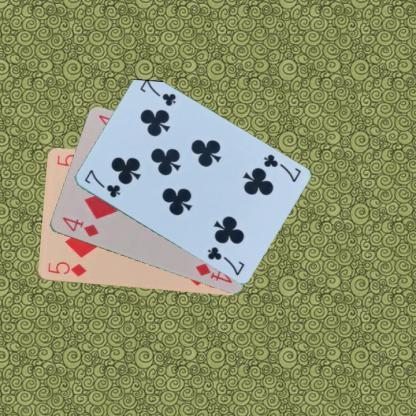4d: (59, 214, 100, 239)
5d: (45, 259, 87, 278)
7c: (261, 151, 302, 184), (81, 167, 121, 199)
